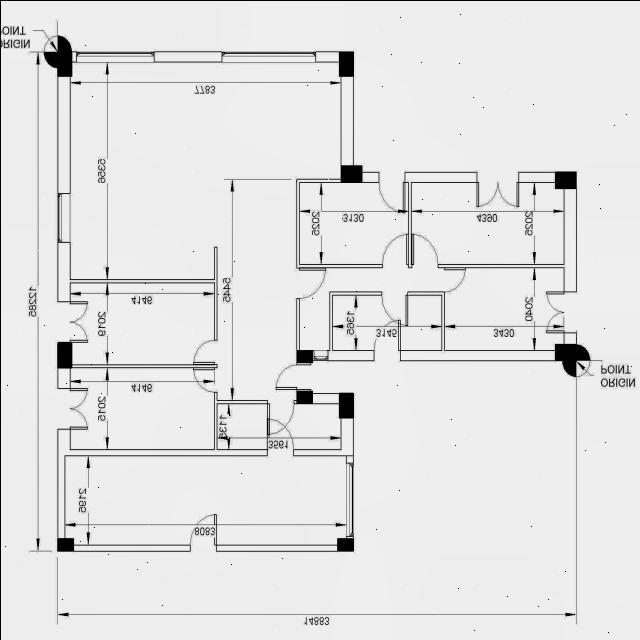Column: (56, 50, 72, 76), (339, 164, 362, 182), (554, 170, 576, 188), (338, 50, 353, 76), (338, 392, 353, 418), (56, 341, 71, 367), (554, 343, 576, 360), (296, 389, 312, 404), (336, 537, 353, 551), (56, 537, 73, 551), (296, 349, 312, 362)
Door: (378, 171, 408, 213), (372, 318, 400, 360), (274, 362, 312, 390), (266, 418, 293, 456), (266, 399, 294, 435), (410, 232, 438, 268), (190, 512, 216, 550), (296, 266, 326, 298), (381, 233, 408, 267), (381, 290, 407, 324), (192, 366, 217, 392), (192, 338, 216, 364), (443, 266, 465, 292)
Double-Door: (476, 170, 518, 207), (545, 290, 576, 332), (56, 387, 86, 429), (57, 300, 87, 342)
Window: (220, 50, 316, 61), (75, 50, 154, 61), (56, 192, 70, 242), (345, 462, 353, 536), (312, 355, 328, 360)
